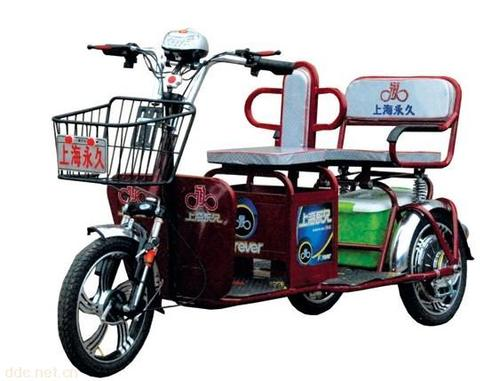empty: (45, 30, 477, 381)
